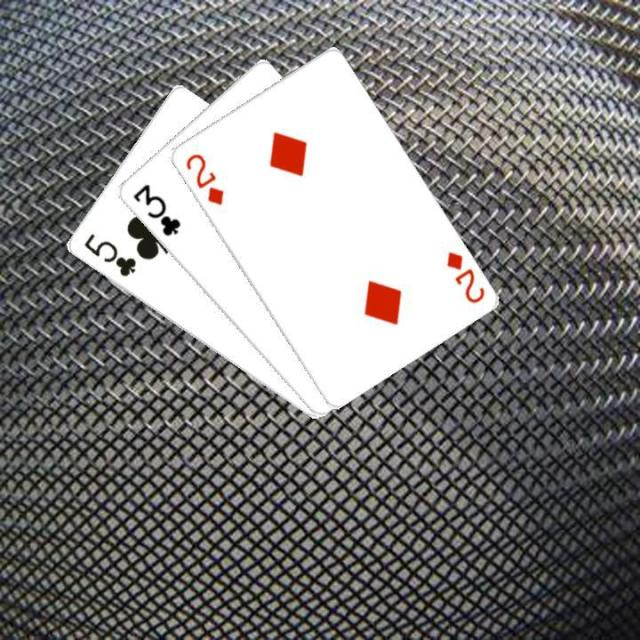2D: (180, 149, 226, 207), (442, 247, 486, 306)
3C: (128, 180, 182, 238)
5C: (79, 229, 138, 279)
